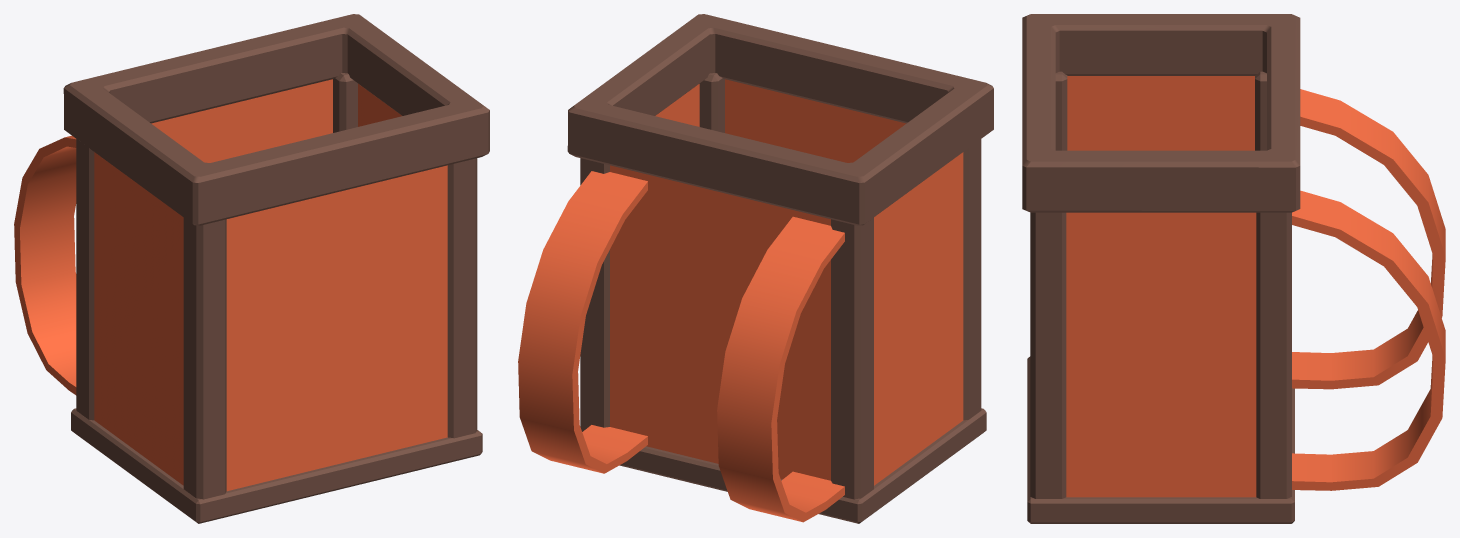
3 renders of one model, left to right at view 1: azimuth 30°, elevation 25°; view 2: azimuth 150°, elevation 25°; view 3: azimuth 270°, elevation 25°, orthographic. The views are drawn at different scales.
Visible parts, largest first — view 1: Balo_4; view 2: Balo_4; view 3: Balo_4.
Boxes of the visible parts, x1=… form: Balo_4: x1=14, y1=14, x2=489, y2=523; Balo_4: x1=518, y1=14, x2=993, y2=523; Balo_4: x1=1022, y1=14, x2=1445, y2=523.
Bounding box in the file's own units: 109 × 122 × 129.
